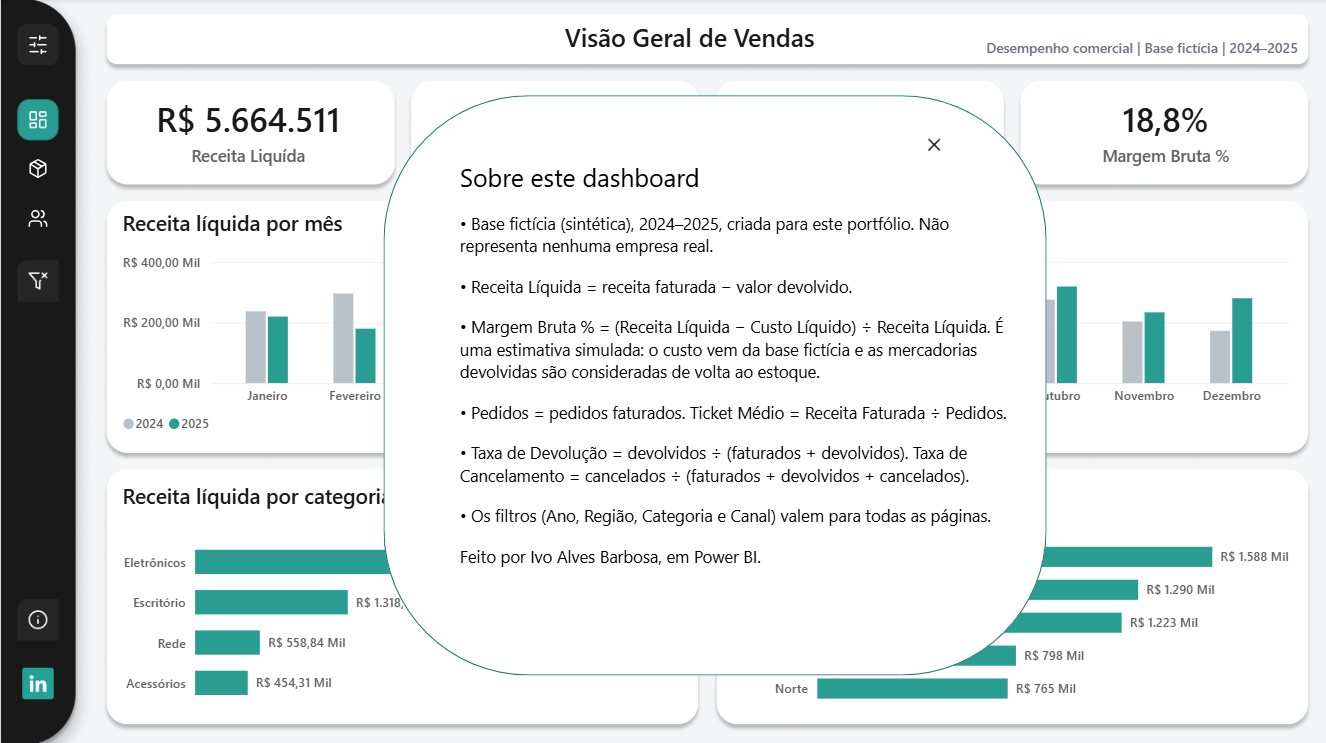

The page's visual inventory and layout, read from the dashboard file:
{"tool":"powerbi","page":{"name":"Visão Geral","canvas":[1280,720],"ordinal":0},"visuals":[{"type":"shape","title":"btn_ativo","box":[16.1,96,40,40],"z":0,"group":"g1"},{"type":"clusteredBarChart","title":"Receita líquida por categoria","fields":{"Category":["DimProdutos.Categoria"],"Y":["_Medidas.Receita Liquída"]},"box":[101.4,451.5,566.5,253.6],"z":0},{"type":"image","title":"btn_abrir","box":[16,24,40,40],"z":1000,"group":"g1"},{"type":"clusteredColumnChart","title":"Receita líquida por mês","fields":{"Category":["DimCalendario.Mes"],"Series":["DimCalendario.Ano"],"Y":["_Medidas.Receita Liquida"]},"box":[101.4,188,1157.8,251.1],"z":1000},{"type":"card","title":"Pedidos","fields":{"Values":["_Medidas.Pedidos"]},"box":[410,75,257,105],"z":2000},{"type":"image","title":"nav_3","box":[16,192,40,40],"z":2000,"group":"g1"},{"type":"card","title":"Tiket_médio","fields":{"Values":["_Medidas.Ticket Médio"]},"box":[705,75,257,105],"z":3000},{"type":"image","title":"nav_2","box":[16,144,40,40],"z":3000,"group":"g1"},{"type":"card","title":"Margem_líquida","fields":{"Values":["_Medidas.Receita Liquida"]},"box":[110,75,257.5,105],"z":4000},{"type":"image","title":"nav_1","box":[16,96,40,40],"z":4000,"group":"g1"},{"type":"card","title":"margem_bruta","fields":{"Values":["_Medidas.Margem Bruta %"]},"box":[996.2,75,255,105],"z":5000},{"type":"clusteredBarChart","title":"Receita líquida por região","fields":{"Category":["DimClientes.Regiao"],"Y":["_Medidas.Receita Liquída"]},"box":[689,451.5,570.2,253.6],"z":6000},{"type":"textbox","title":"Barra_visãogeral","box":[543.6,19.9,247.4,33.4],"z":7000},{"type":"textbox","title":"desnepenho..","box":[935.1,37.4,316.7,29],"z":8000},{"type":"group","id":"g1","title":"botões_navegacao","box":[16,24,40.1,208],"z":10000},{"type":"image","title":"LogoLinkedin","box":[20,645.7,30,30],"z":11000},{"type":"cardVisual","title":"qtd_filtros","fields":{"Data":["_Medidas.filtro"]},"box":[6,4,20,20],"z":13000},{"type":"image","title":"limpar_filtros","box":[16,252,40,40],"z":14000},{"type":"image","title":"btn_sobre","box":[15.7,578.6,40,40],"z":15000}]}

Visuals, with their boxes on the page's 1280x720 design canvas (x1, y1, x2, y2). These are canvas units, not pixel positions in the 1326x743 screenshot, which may show the page scaled, cropped or inside an application window:
"btn_ativo" shape: 16 96 56 136
"Receita líquida por categoria" clusteredBarChart: 101 452 668 705
"btn_abrir" image: 16 24 56 64
"Receita líquida por mês" clusteredColumnChart: 101 188 1259 439
"Pedidos" card: 410 75 667 180
"nav_3" image: 16 192 56 232
"Tiket_médio" card: 705 75 962 180
"nav_2" image: 16 144 56 184
"Margem_líquida" card: 110 75 368 180
"nav_1" image: 16 96 56 136
"margem_bruta" card: 996 75 1251 180
"Receita líquida por região" clusteredBarChart: 689 452 1259 705
"Barra_visãogeral" textbox: 544 20 791 53
"desnepenho.." textbox: 935 37 1252 66
"botões_navegacao" group: 16 24 56 232
"LogoLinkedin" image: 20 646 50 676
"qtd_filtros" cardVisual: 6 4 26 24
"limpar_filtros" image: 16 252 56 292
"btn_sobre" image: 16 579 56 619
